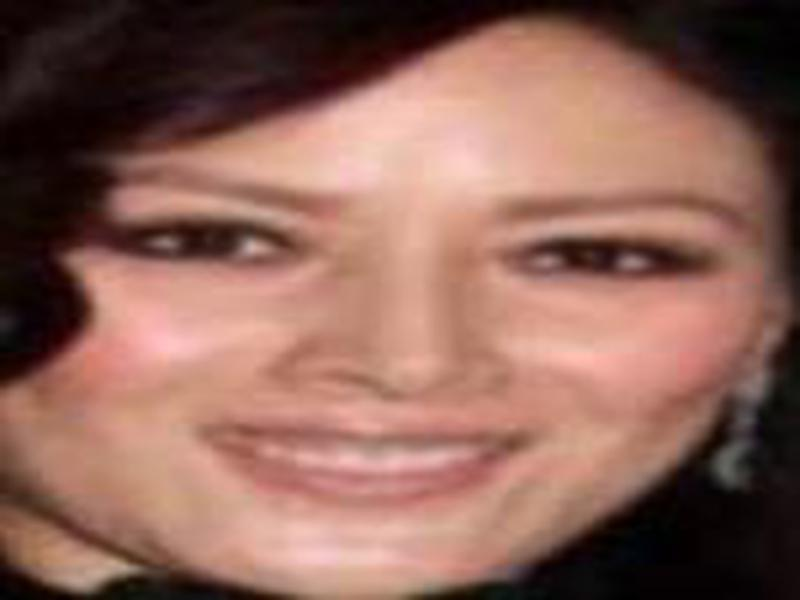without_mask: (16, 74, 763, 595)
